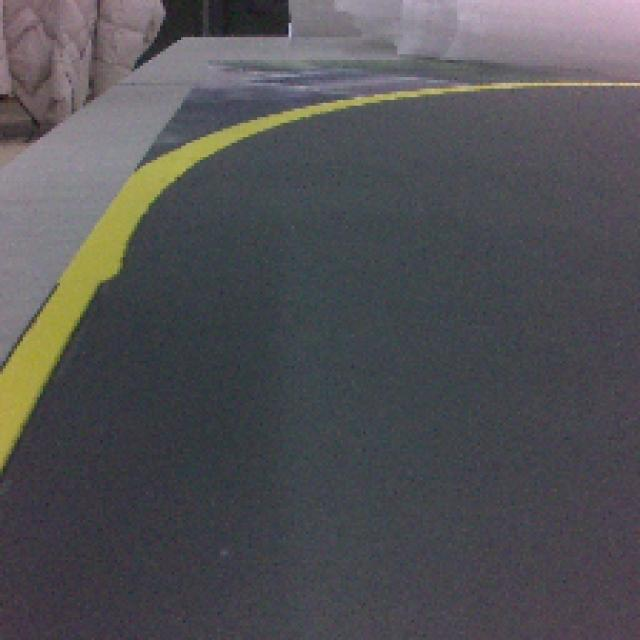Road: (0, 279, 635, 638)
